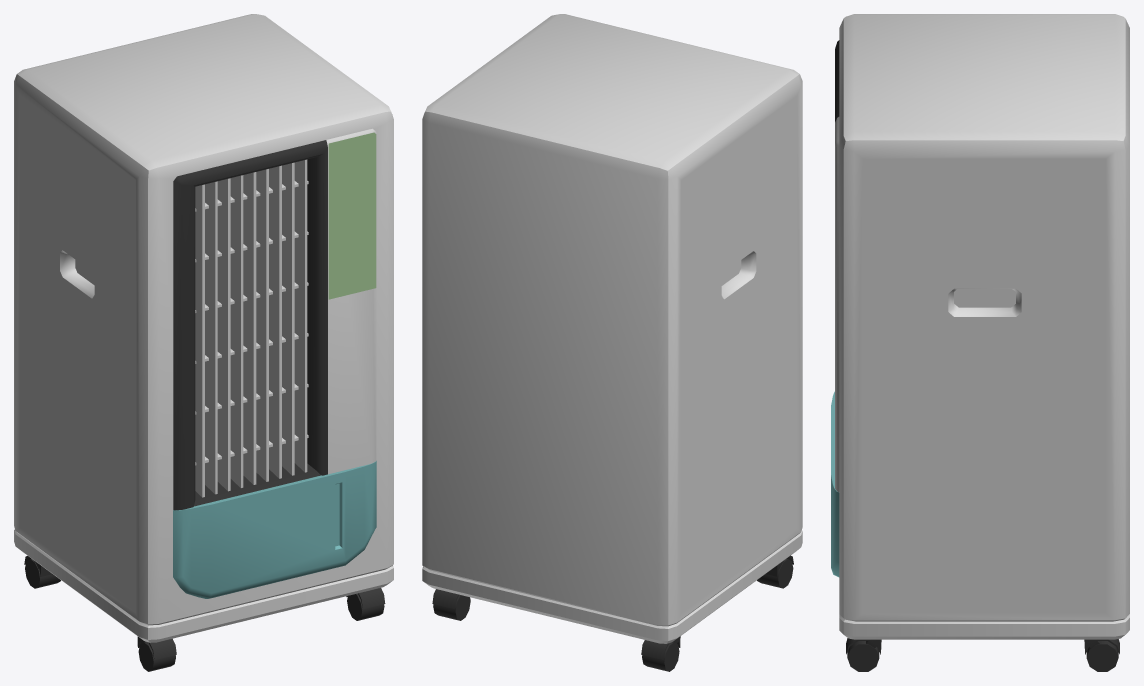
The model's file is MIDEAACH120D2R.FBX.
3 renders of one model, left to right at view 1: azimuth 30°, elevation 25°; view 2: azimuth 150°, elevation 25°; view 3: azimuth 270°, elevation 25°, orthographic. The views are drawn at different scales.
Parts seen in each view (by area): view 1: MIDEAACH120D2R; view 2: MIDEAACH120D2R; view 3: MIDEAACH120D2R.
Part boxes in pixels (x1,y1,x2,y2): MIDEAACH120D2R: [14, 14, 393, 671]; MIDEAACH120D2R: [422, 14, 802, 671]; MIDEAACH120D2R: [831, 14, 1129, 671].
Size of the model in its own units: 36.5 by 35.5 by 70.7.
